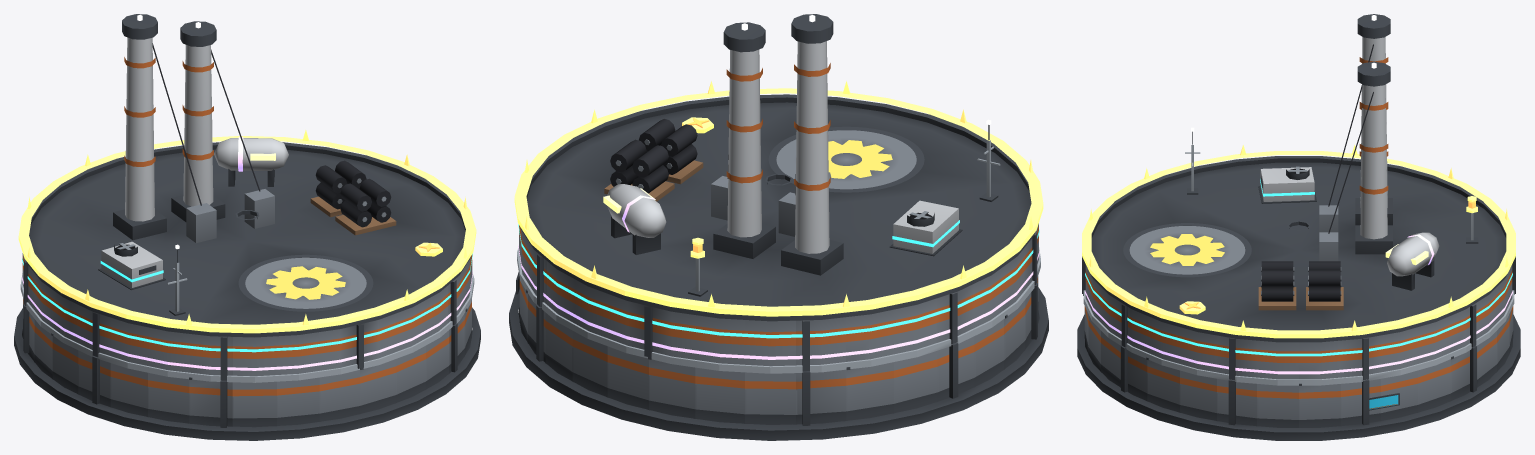
The model's file is carbon_works_s.glb.
The picture shows the model from 3 angles, left to right: view 1: azimuth 30°, elevation 25°; view 2: azimuth 150°, elevation 25°; view 3: azimuth 270°, elevation 25°; orthographic projection. The views are drawn at different scales.
Parts seen in each view (by area): view 1: Roof, Base, L4, L3, Wall_21, Wall_20, Wall_22, Wall_19, Wall_23, Wall_18, Wall_24, Upper_20 (+26 smaller); view 2: Roof, Base, L3, L4, Wall_11, Wall_10, Wall_09, Wall_12, Wall_08, Wall_13, Wall_07, Upper_11 (+33 smaller); view 3: Roof, Base, L4, L3, Wall_00, Wall_31, Wall_30, Wall_01, Wall_29, Upper_01, Upper_30, Wall_28 (+24 smaller).
Boxes of the visible parts, left/top/right/bottom form: Roof: left=26, top=14, right=470, bottom=337; Base: left=14, top=307, right=480, bottom=440; L4: left=214, top=137, right=288, bottom=186; L3: left=98, top=210, right=259, bottom=290; Wall_21: left=232, top=381, right=276, bottom=427; Wall_20: left=189, top=377, right=232, bottom=427; Wall_22: left=277, top=377, right=319, bottom=425; Wall_19: left=148, top=372, right=189, bottom=423; Wall_23: left=319, top=370, right=359, bottom=421; Wall_18: left=110, top=363, right=147, bottom=416; Wall_24: left=360, top=359, right=395, bottom=413; Upper_20: left=189, top=334, right=232, bottom=380; Roof: left=520, top=14, right=1034, bottom=321; Base: left=509, top=287, right=1048, bottom=440; L3: left=765, top=174, right=962, bottom=256; L4: left=603, top=184, right=666, bottom=254; Wall_11: left=796, top=369, right=846, bottom=425; Wall_10: left=745, top=372, right=795, bottom=424; Wall_09: left=695, top=367, right=744, bottom=423; Wall_12: left=846, top=362, right=893, bottom=420; Wall_08: left=648, top=357, right=695, bottom=418; Wall_13: left=894, top=351, right=937, bottom=413; Wall_07: left=607, top=346, right=648, bottom=409; Upper_11: left=796, top=317, right=845, bottom=371; Roof: left=1090, top=14, right=1507, bottom=342; Base: left=1077, top=314, right=1520, bottom=440; L4: left=1385, top=232, right=1439, bottom=290; L3: left=1258, top=166, right=1316, bottom=230; Wall_00: left=1299, top=383, right=1340, bottom=427; Wall_31: left=1257, top=384, right=1298, bottom=427; Wall_30: left=1217, top=379, right=1256, bottom=426; Wall_01: left=1341, top=379, right=1380, bottom=426; Wall_29: left=1179, top=370, right=1216, bottom=420; Upper_01: left=1340, top=335, right=1380, bottom=379; Upper_30: left=1217, top=335, right=1257, bottom=379; Wall_28: left=1146, top=357, right=1179, bottom=412.
Size of the model in its own units: 11.74 by 8.79 by 11.74.
